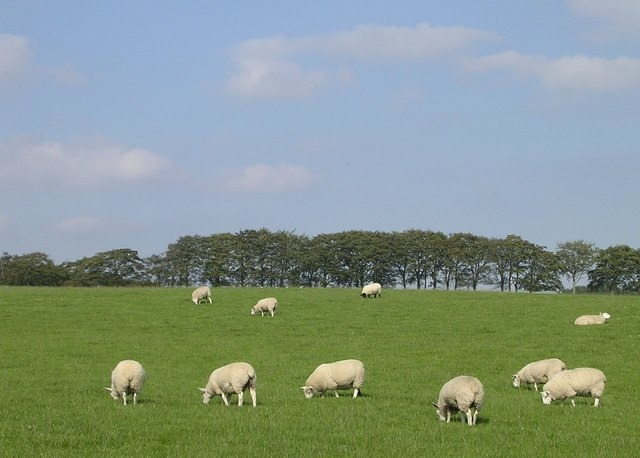grazing: (196, 361, 259, 409), (431, 375, 487, 428), (542, 368, 606, 410), (302, 359, 367, 399), (510, 357, 567, 393), (107, 358, 147, 406), (251, 296, 279, 319), (189, 286, 212, 307), (360, 281, 383, 300)
resting: (572, 309, 612, 329)
